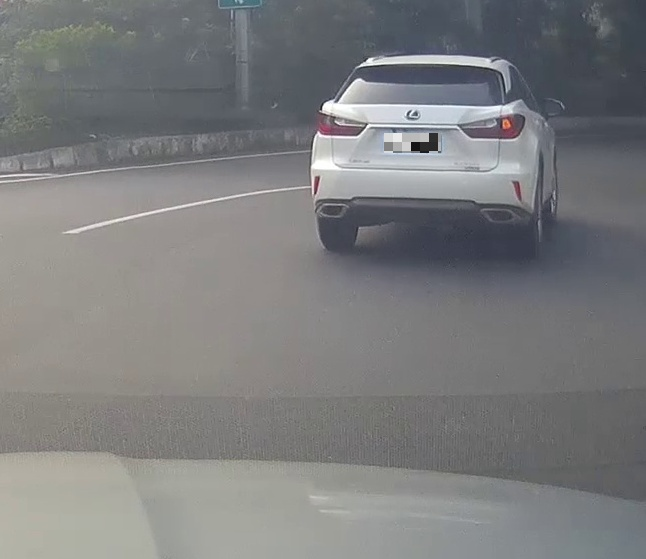L_light: (315, 112, 368, 137)
R_light: (458, 113, 526, 139)
T_light: (409, 63, 436, 70)
day-right: (310, 54, 537, 258)
plate_1: (384, 133, 441, 153)
